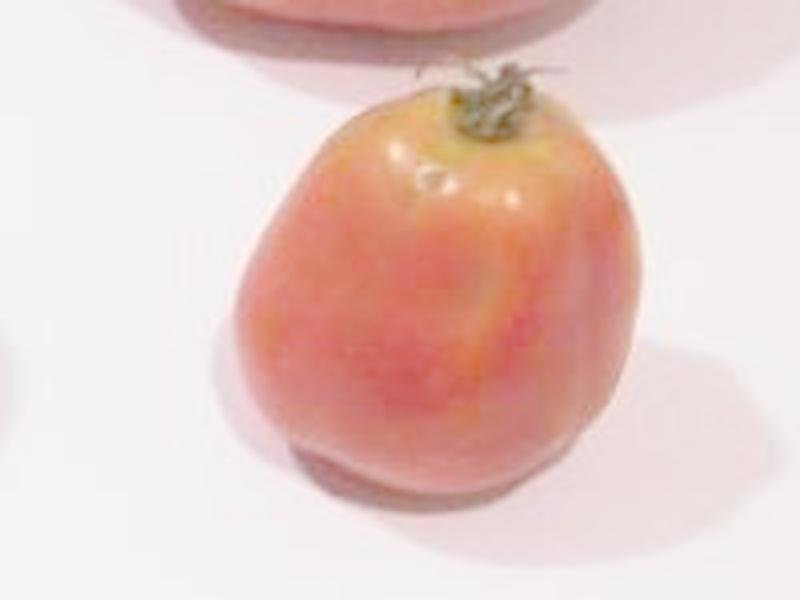Tomato: (235, 80, 639, 484)
